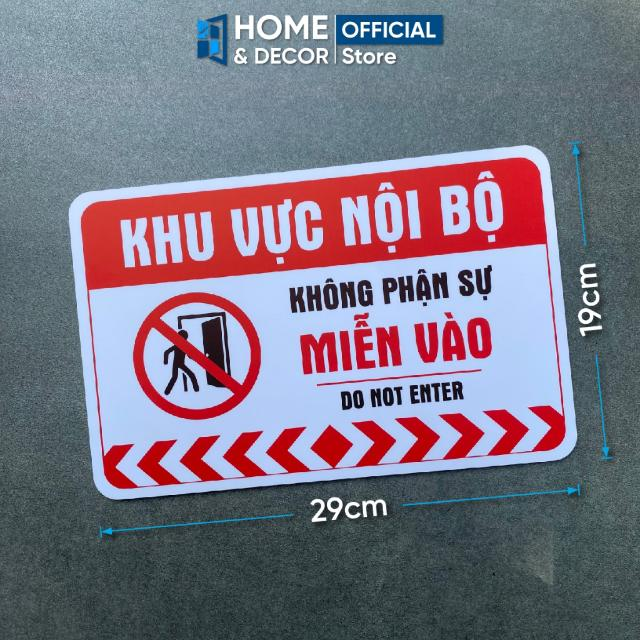khong phan su mien vao: (69, 147, 576, 499)
